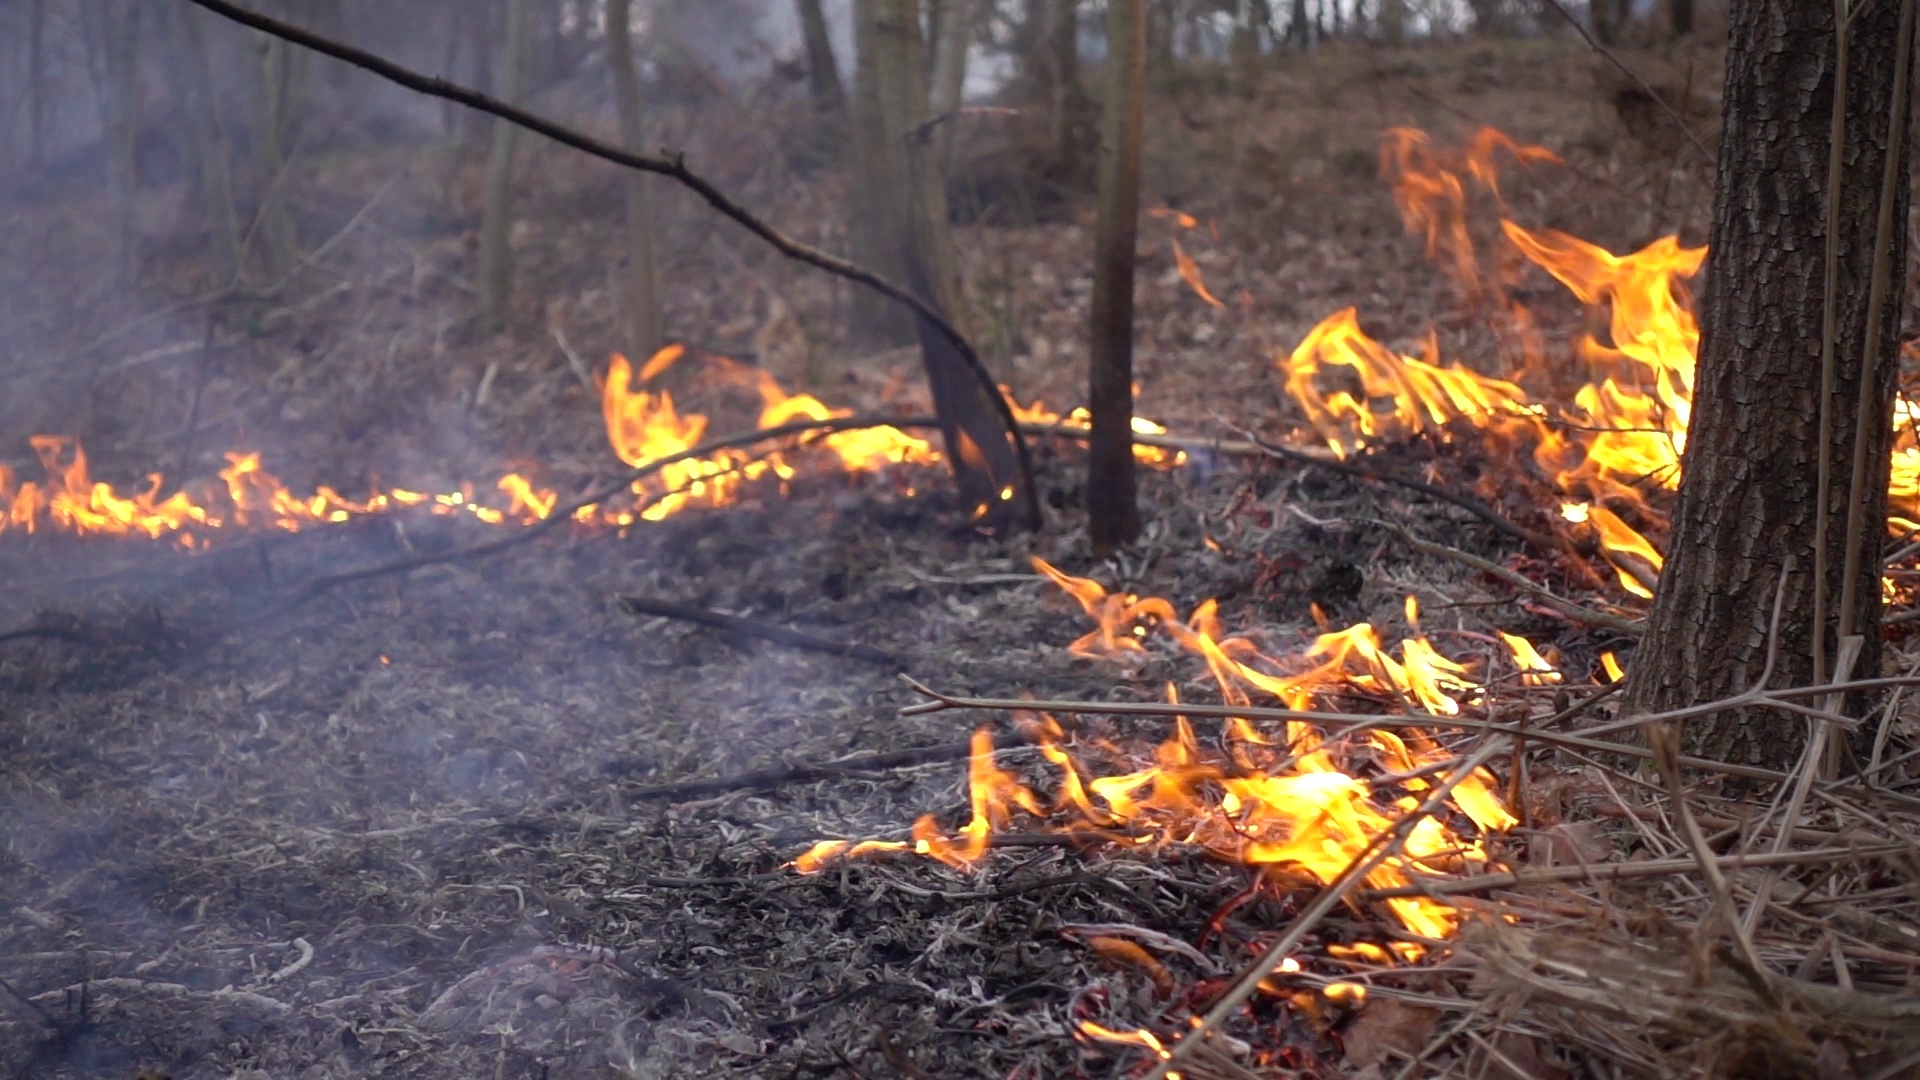fire: (887, 604, 1519, 982), (1290, 191, 1705, 597), (604, 349, 931, 513), (1, 450, 444, 535), (1002, 398, 1096, 439), (495, 471, 559, 527), (1888, 394, 1920, 498)
